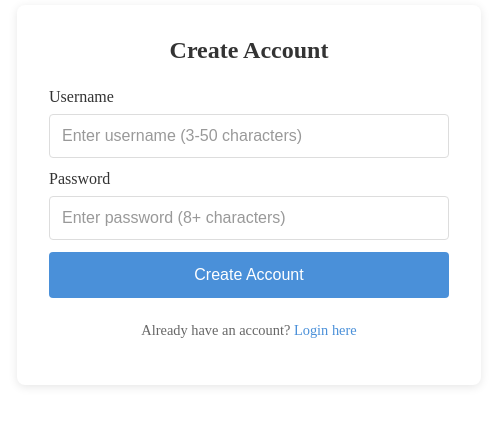
Test: RegisterForm › Client-side Validation › shows error for username less than 3 characters
In the field labelled "Username": (249, 136) [49, 114, 449, 158], type "ab"
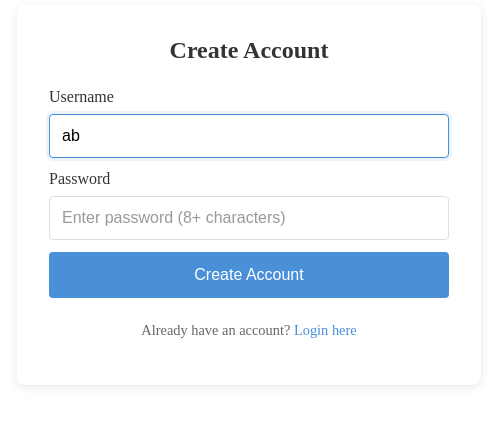
In the password field labelled "Password": (249, 218) [49, 196, 449, 240], type "validpass123"
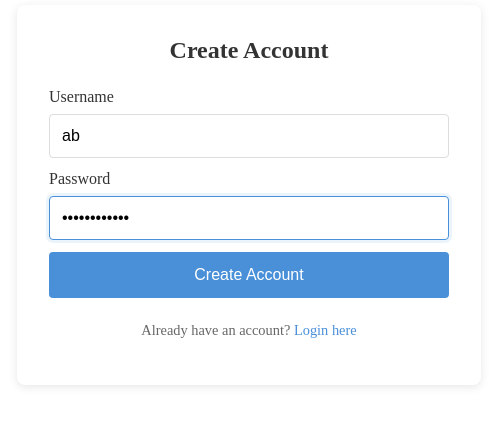
Click the button "Create Account": click(249, 275) [49, 252, 449, 298]
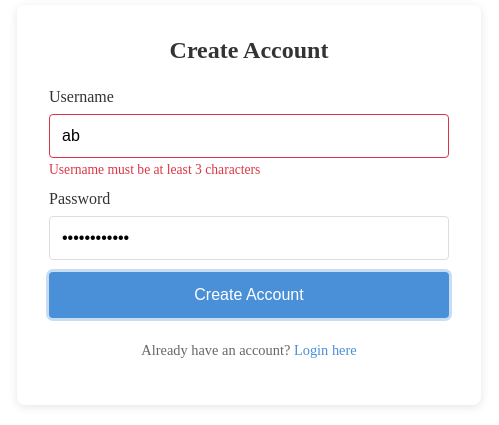
Expected: the text "Username must be at least 3 characters" is shown, [49, 162, 260, 177]
